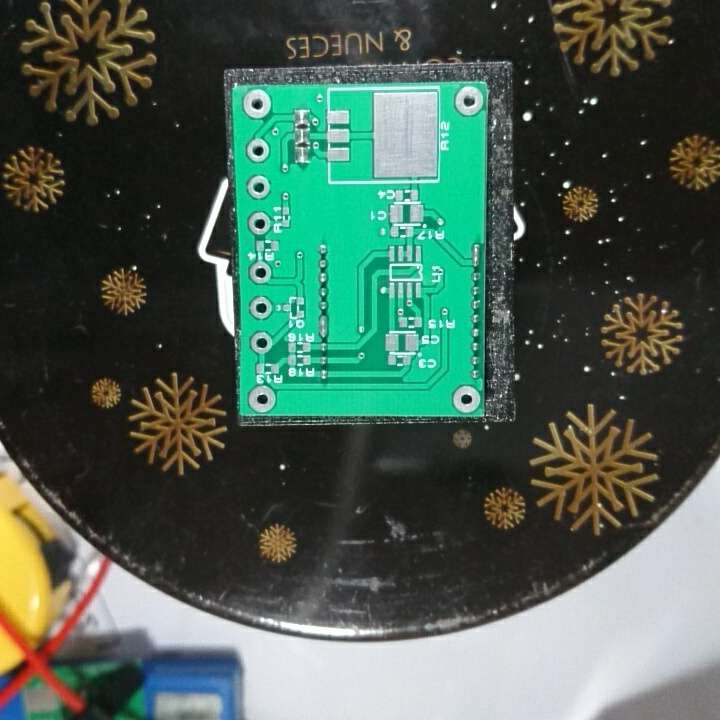F: (240, 86, 275, 122), (453, 83, 485, 120), (245, 383, 279, 414), (450, 384, 482, 415), (247, 294, 274, 324), (245, 136, 273, 164), (245, 210, 273, 237), (244, 174, 273, 200), (248, 330, 275, 355), (247, 259, 272, 284)
P: (316, 313, 333, 340), (470, 240, 483, 270)
